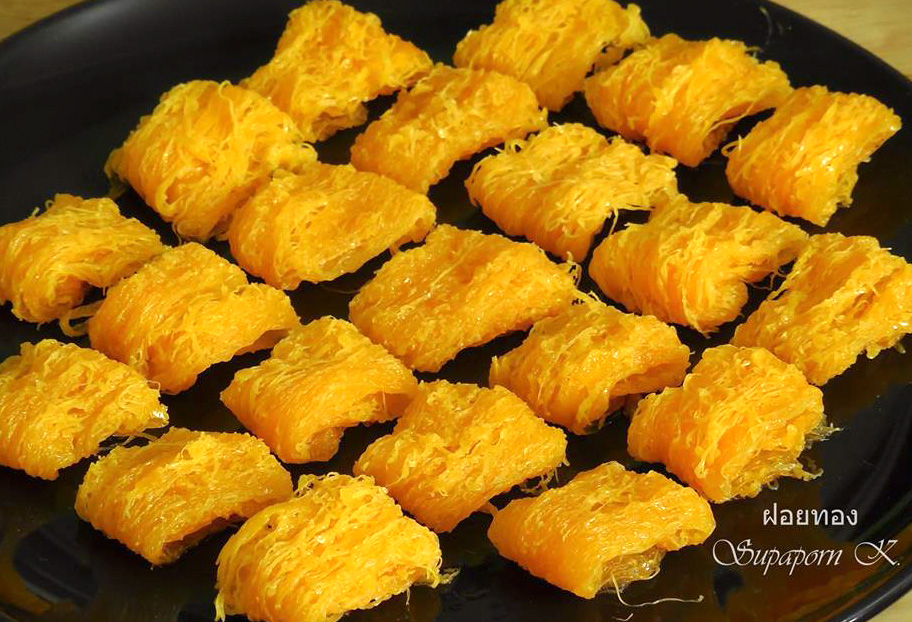foitong: (623, 350, 843, 512), (109, 80, 322, 242), (354, 385, 576, 532), (223, 479, 445, 622), (467, 117, 682, 262), (359, 225, 580, 366), (87, 252, 308, 383), (595, 27, 803, 166), (335, 240, 586, 354), (485, 480, 712, 596), (236, 19, 431, 150), (1, 337, 171, 487), (734, 83, 908, 219), (1, 185, 166, 328), (77, 448, 312, 544)
